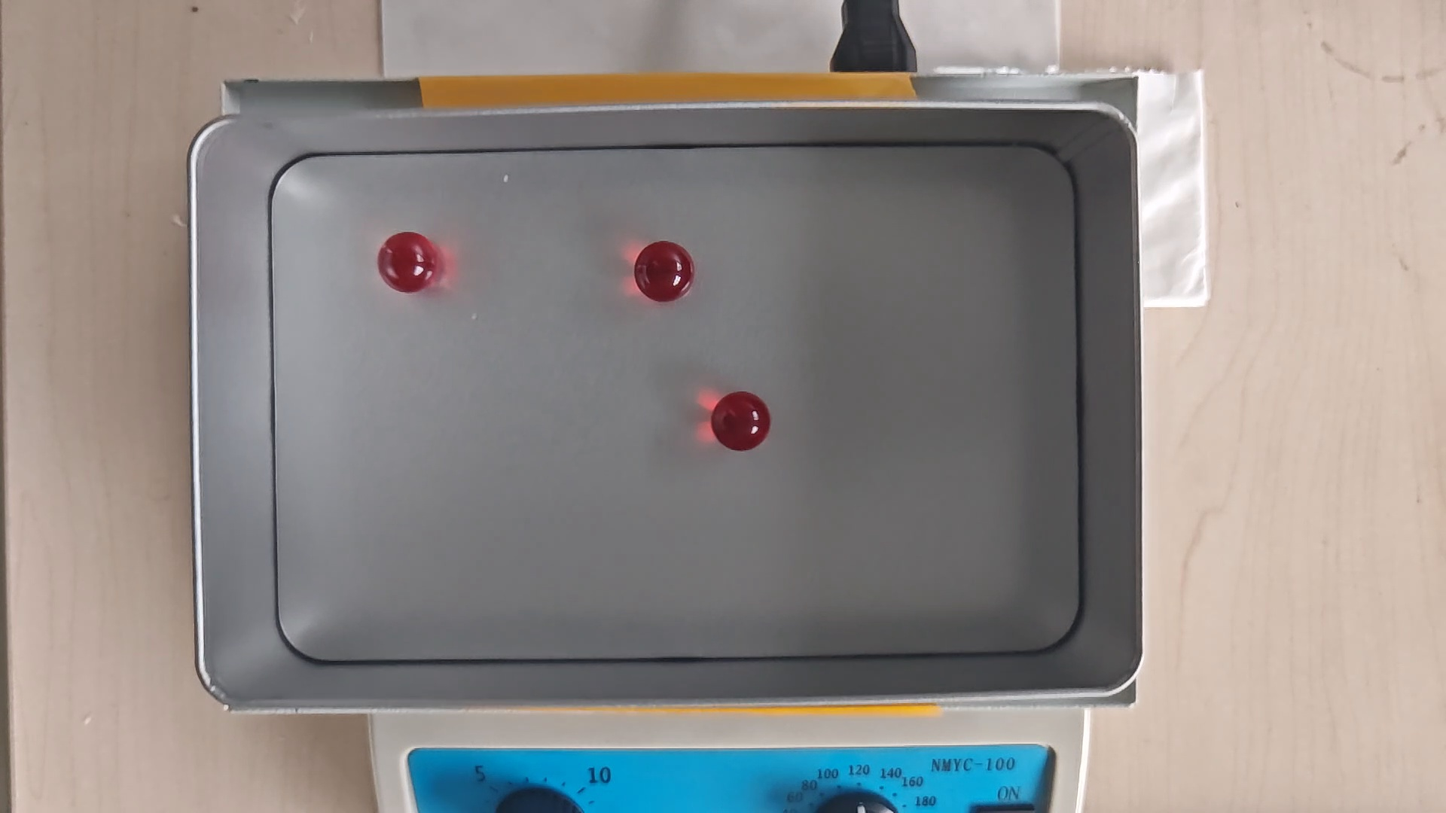ball: (633, 241, 694, 303), (376, 233, 436, 292), (712, 391, 770, 451)
container: (265, 150, 1085, 656)
